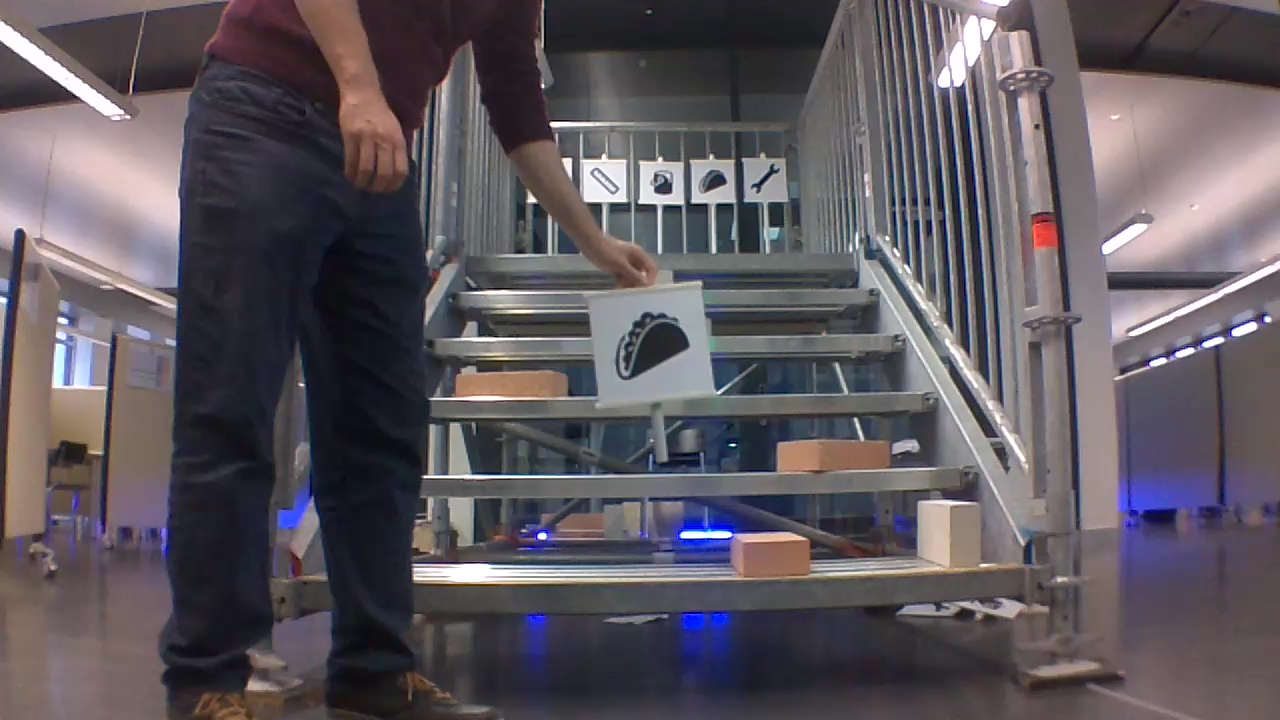brick: (916, 499, 981, 566), (775, 439, 889, 470), (728, 535, 808, 575), (455, 370, 566, 398)
bucket: (646, 167, 675, 197)
edge: (418, 565, 1026, 609), (424, 466, 983, 495), (432, 390, 942, 414)
ruler: (586, 164, 623, 197)
taco: (603, 306, 691, 383), (696, 164, 728, 197)
wrench: (745, 161, 783, 196)
